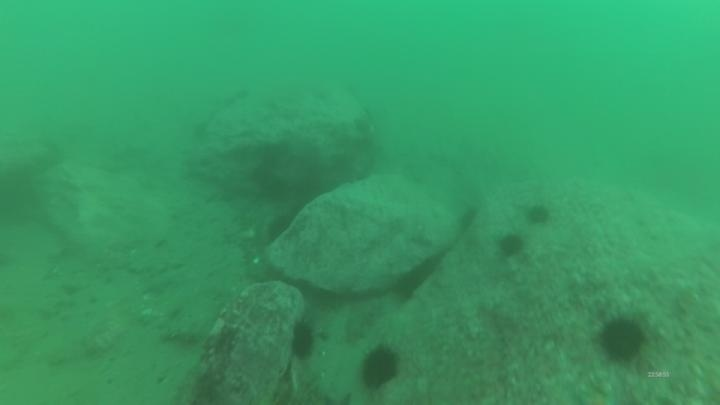echinus: (596, 313, 649, 365), (357, 342, 402, 392), (287, 318, 319, 363), (263, 210, 296, 245), (494, 230, 527, 260), (523, 201, 553, 227), (455, 204, 481, 233)
